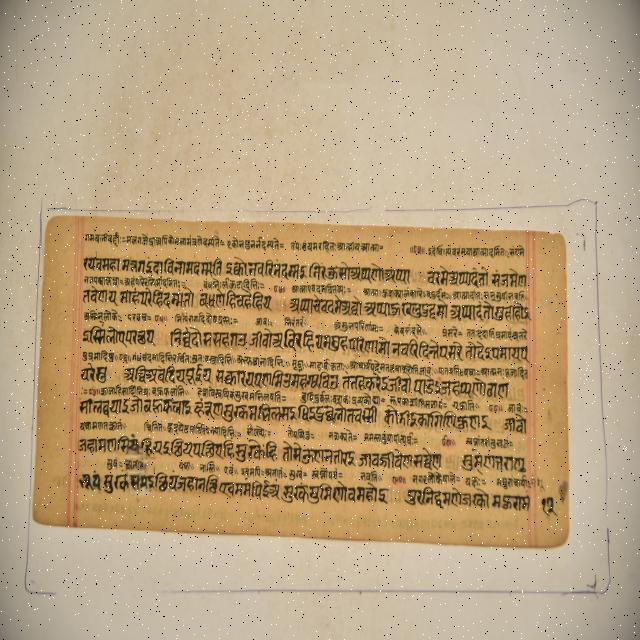text_paragraph: (35, 216, 568, 546)
